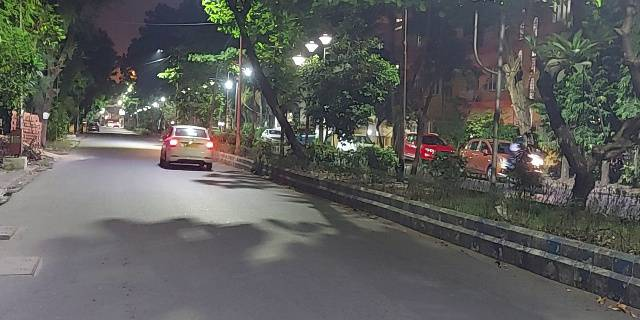Car: (159, 123, 213, 167)
